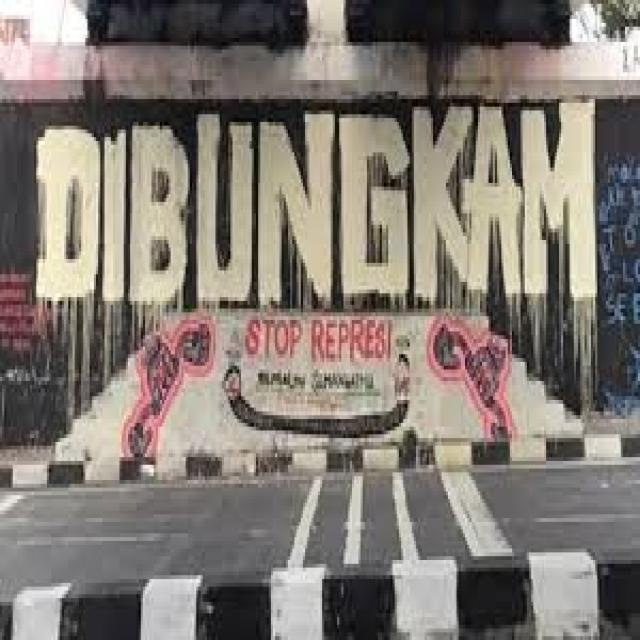-: (37, 109, 597, 305), (124, 313, 512, 451), (599, 156, 640, 415), (0, 267, 47, 356)
